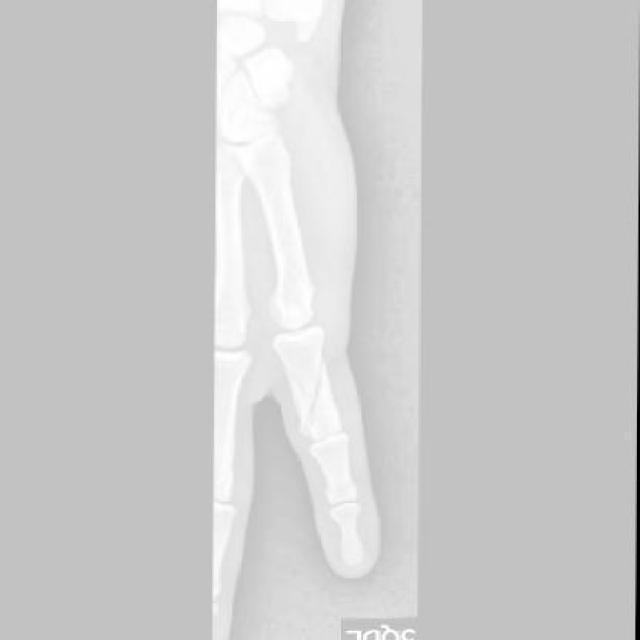Fracture: (285, 354, 333, 442)
